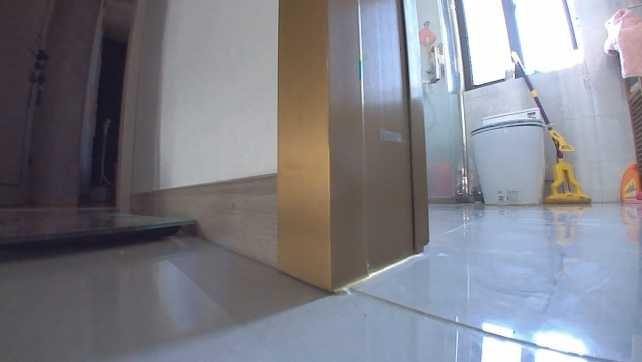toilet: (468, 105, 550, 206)
weight_scale: (0, 200, 191, 252)
